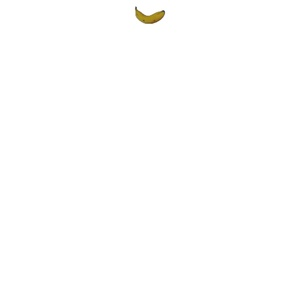banana: (130, 4, 166, 28)
